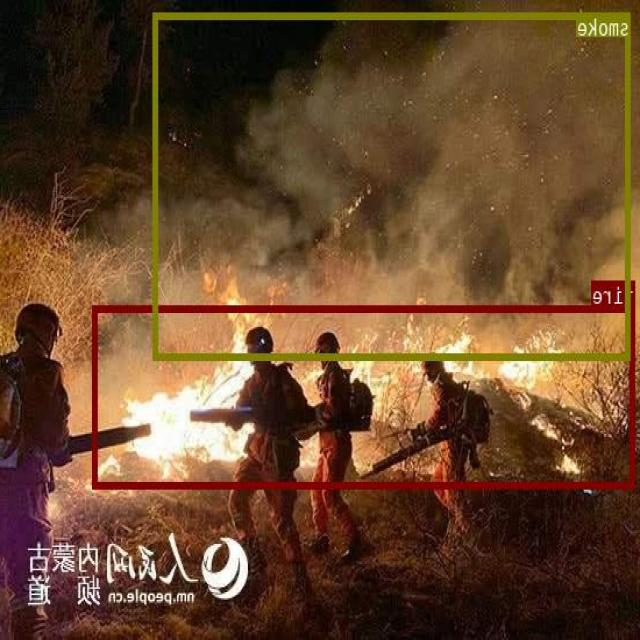fire: (93, 306, 636, 488)
smoke: (154, 12, 632, 359)
